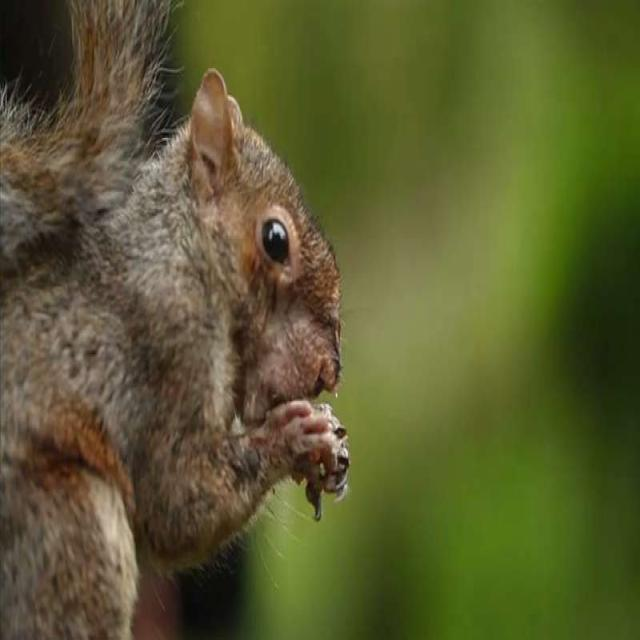Squirrel: (0, 21, 354, 640)
